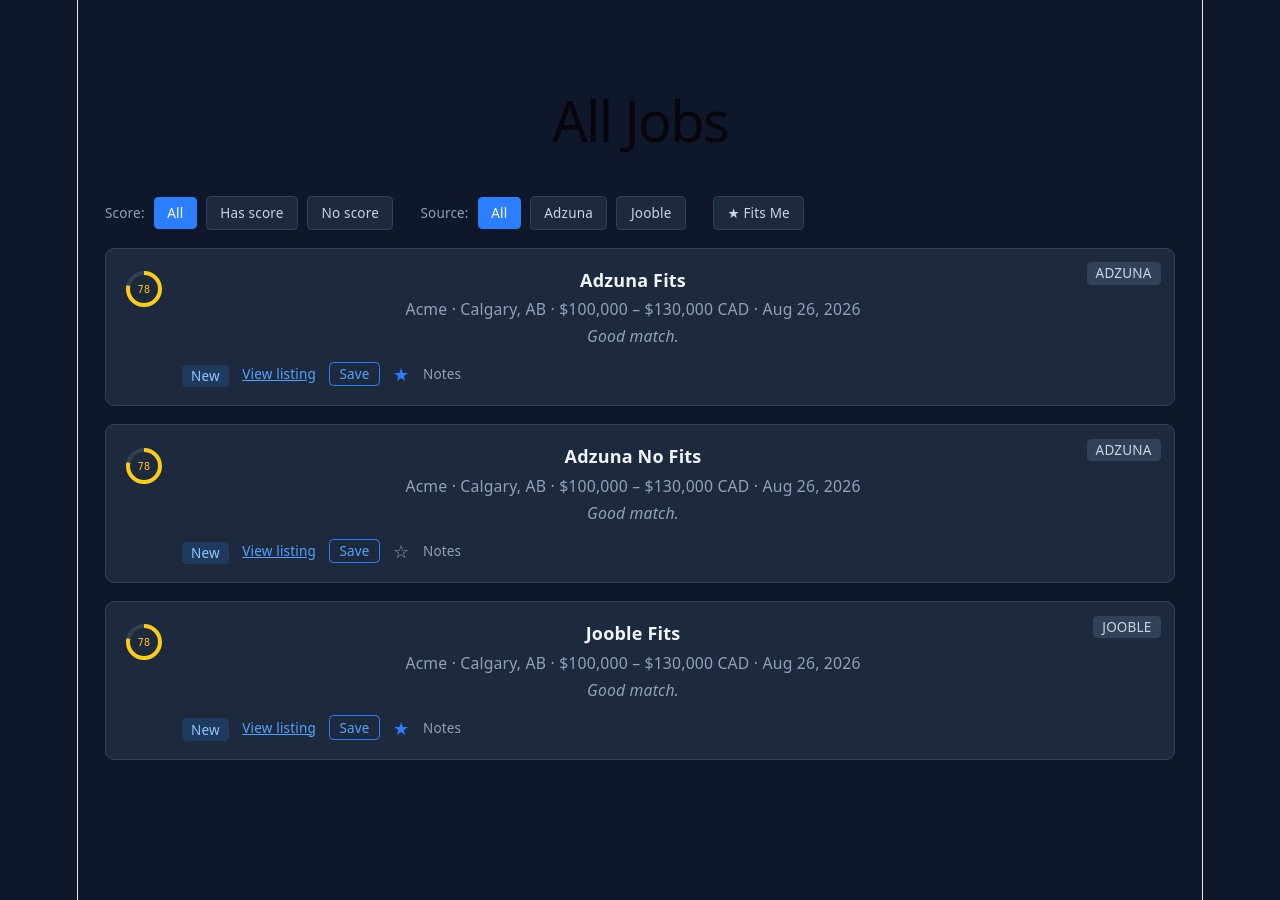
Test: AllJobs › Fits Me filter combines with an existing filter (Fits Me + Adzuna) to the intersection
Check: the text "Adzuna Fits" is shown, box [580, 268, 686, 292]
Step 1. Click the button "Adzuna" → [569, 213], box [530, 196, 607, 230]
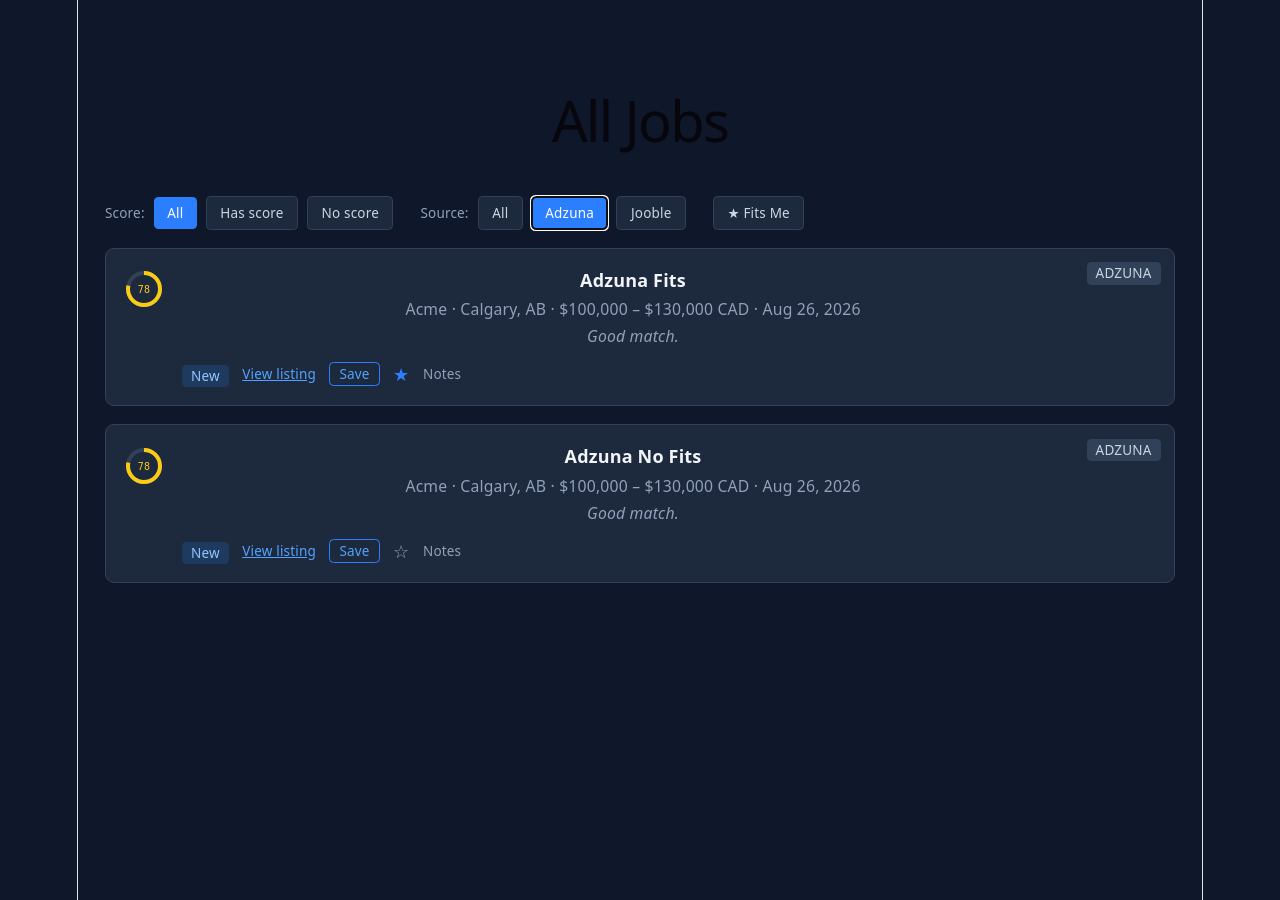
Step 2. Click the button with test id "fits-me-filter-button" → [759, 213], box [713, 196, 804, 230]
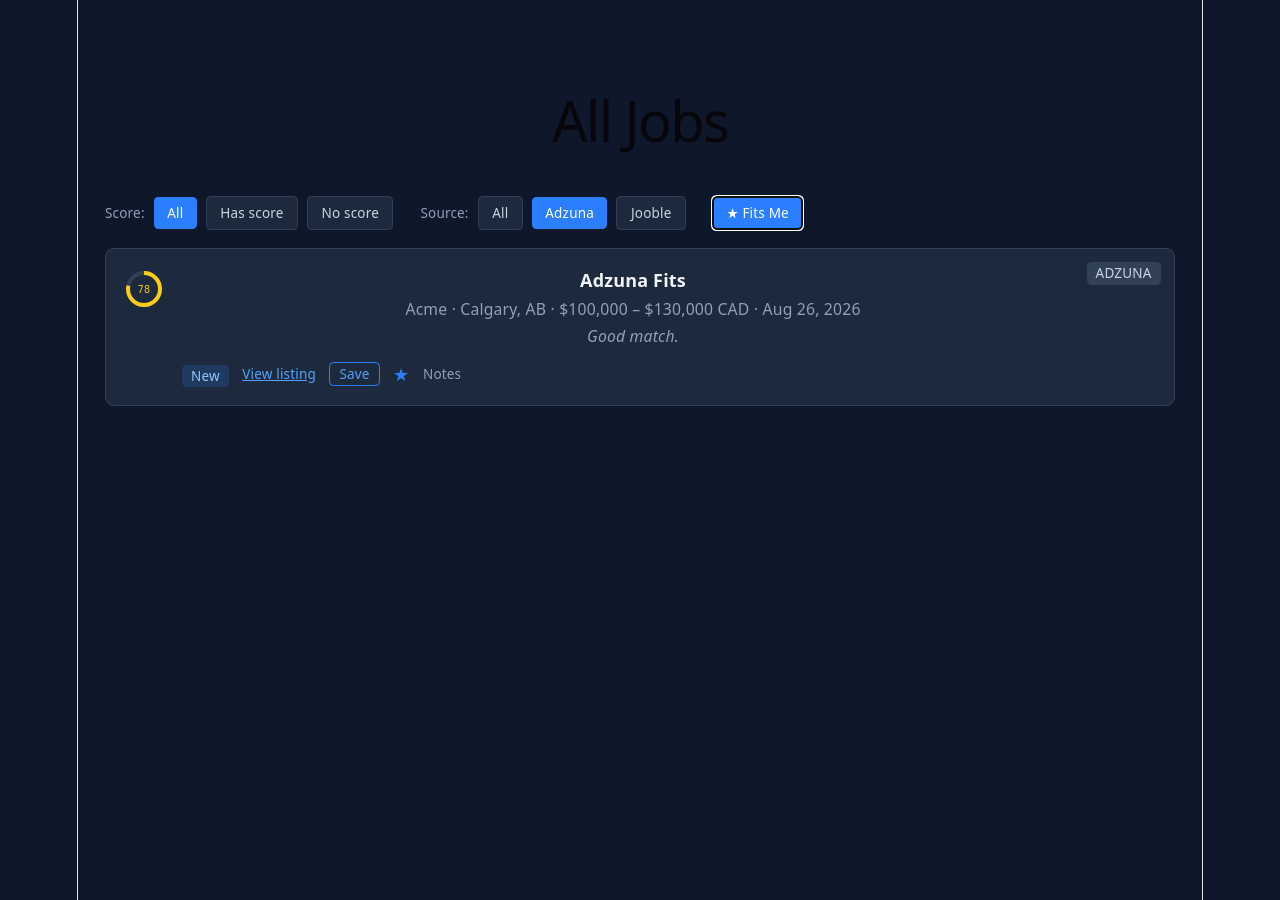
Check: the text "Adzuna Fits" is shown, box [580, 268, 686, 292]
Check: the text "Adzuna No Fits" is gone
